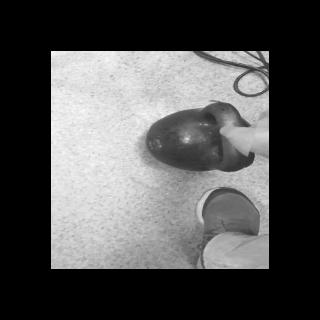kettlebell: (144, 99, 258, 174)
